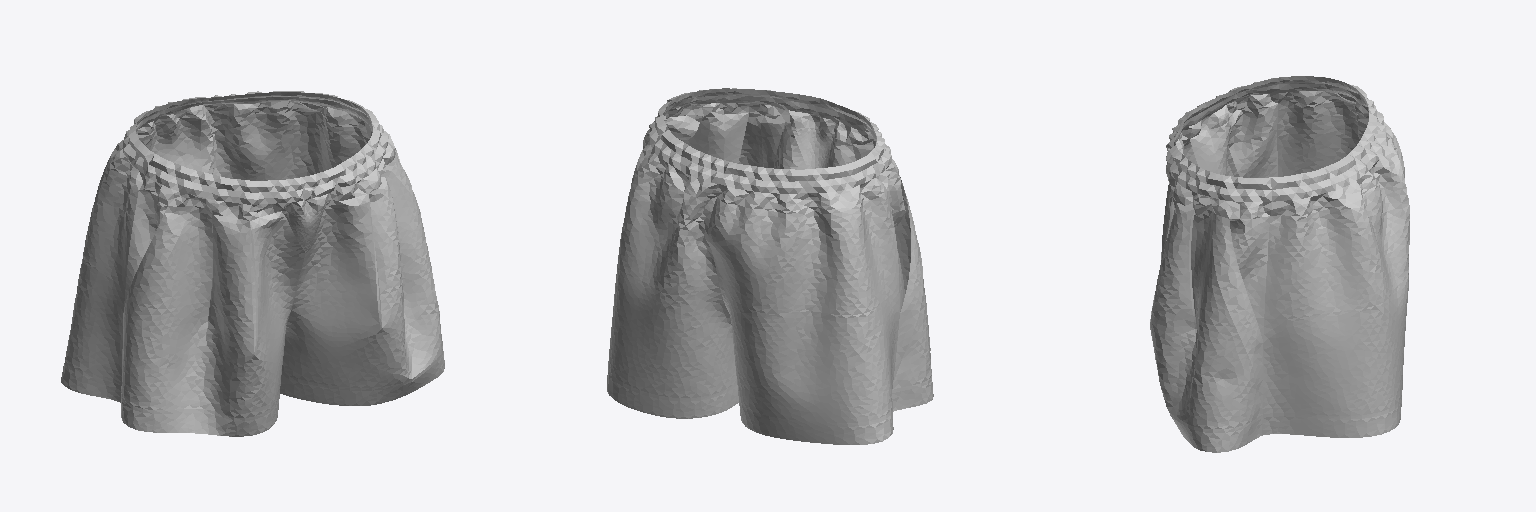
File: XLarge_Average.obj
3 renders of one model, left to right at view 1: azimuth 30°, elevation 25°; view 2: azimuth 150°, elevation 25°; view 3: azimuth 270°, elevation 25°, orthographic.
Visible parts, largest first — view 1: duanku.004; view 2: duanku.004; view 3: duanku.004.
Part boxes in pixels (x1,y1,x2,y2): duanku.004: (61,91,444,436); duanku.004: (607,88,933,444); duanku.004: (1150,76,1409,452).
Bounding box in the file's own units: 0.62 × 0.5023 × 0.4477.